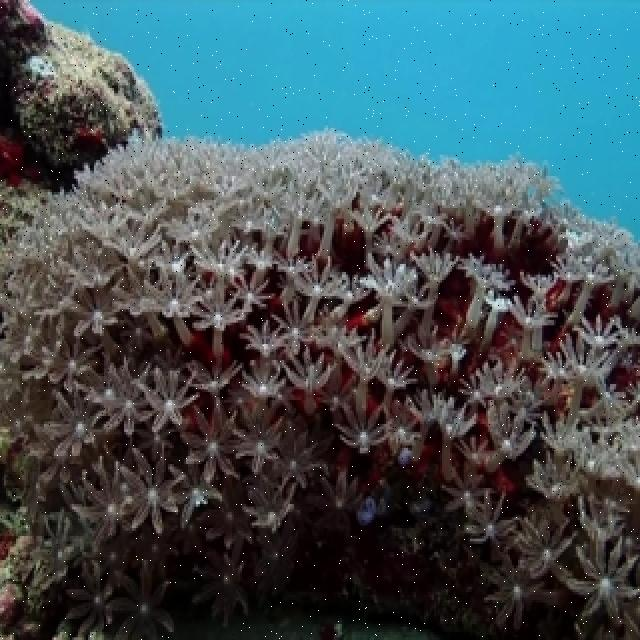reefs: (1, 129, 640, 640)
